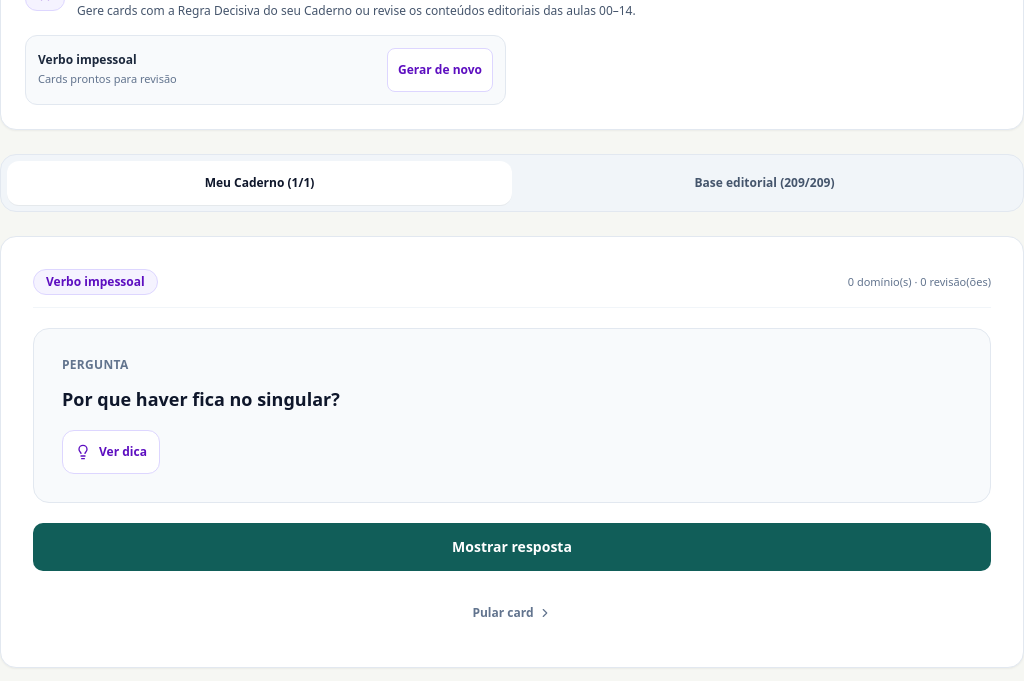
Test case: FlashcardPractice › mantém dica e explicação fechadas e não renderiza referências técnicas
The image size is (1024, 681).
Expected: the text "Pense no sentido de existir." is not shown
What coordinates should you click on to do the following:
click the button "Ver dica"
I would click on:
 (111, 452)
Its box is [62,430,160,474].
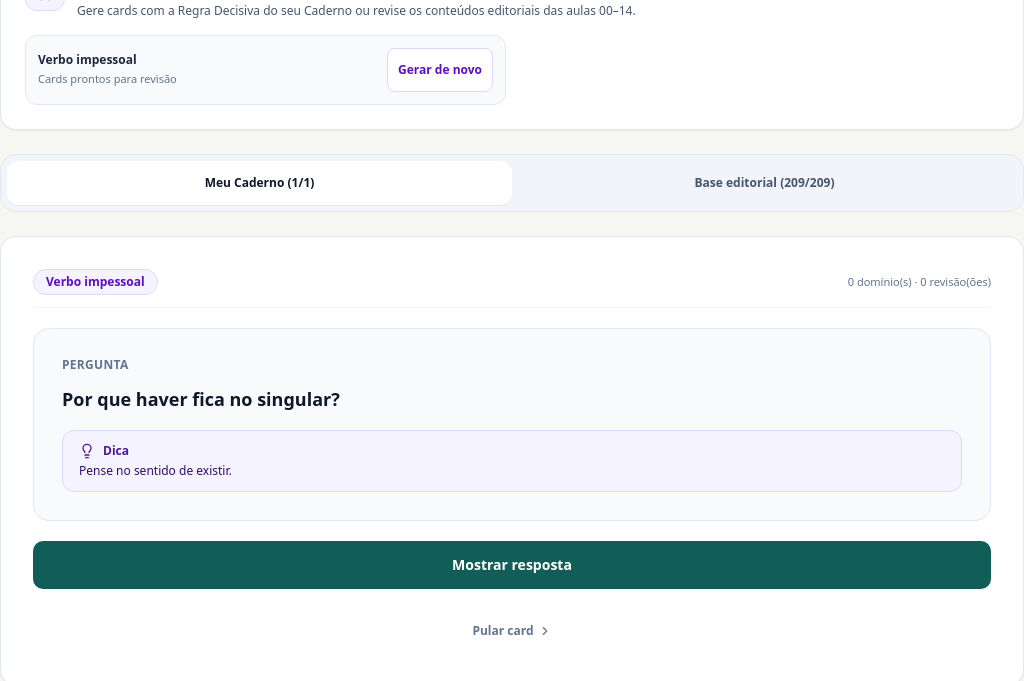
Now the text "Pense no sentido de existir." is shown, box [79,462,232,479]
What coordinates should you click on to do the following:
click the button "Mostrar resposta"
I would click on:
 (512, 565)
Its box is [33,541,991,589].
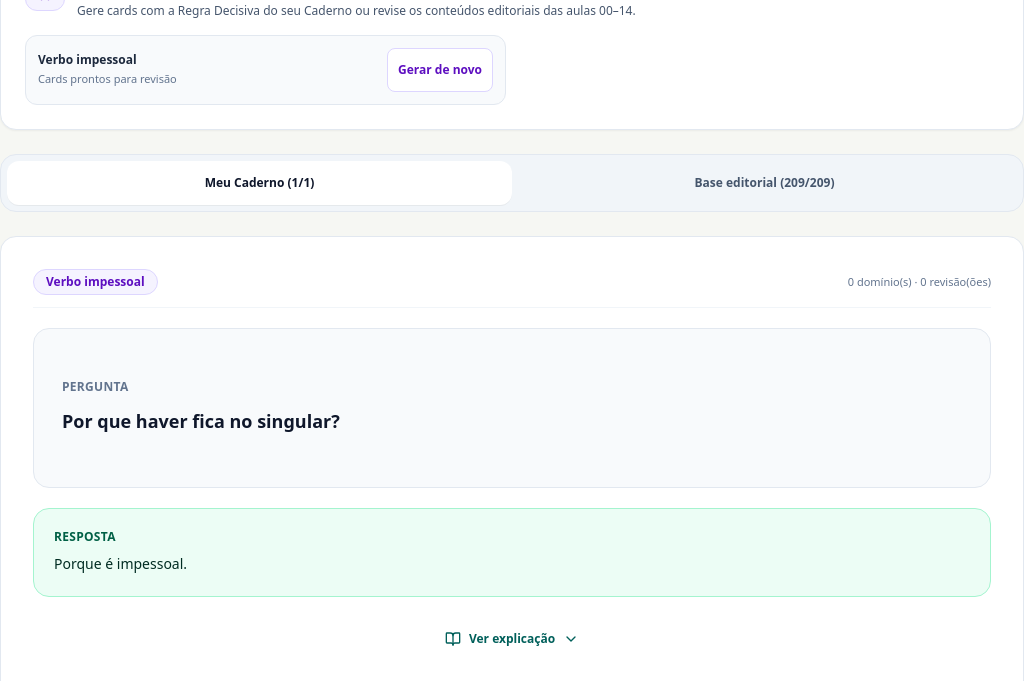
Expected: the text "Não há sujeito." is not shown
Now the text "Porque é impessoal." is shown, box [54,554,187,573]
What coordinates should you click on to do the following:
click the button "Ver explicação"
I would click on:
 (512, 639)
Its box is [433,617,591,661].
(page scrolled)
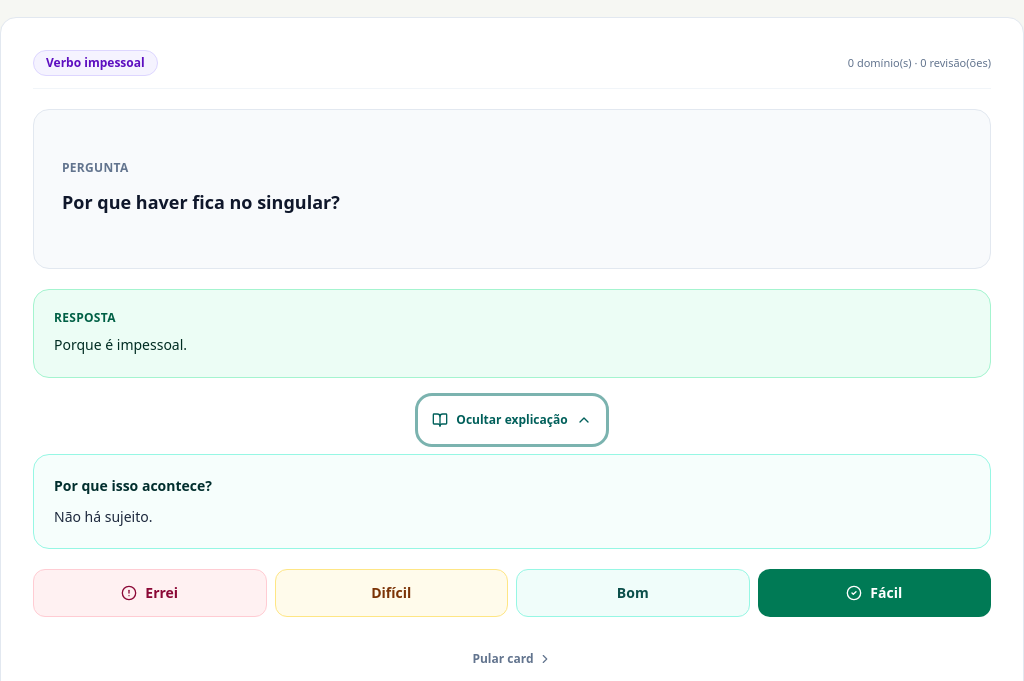
Now the text "Não há sujeito." is shown, box [54,506,152,526]
